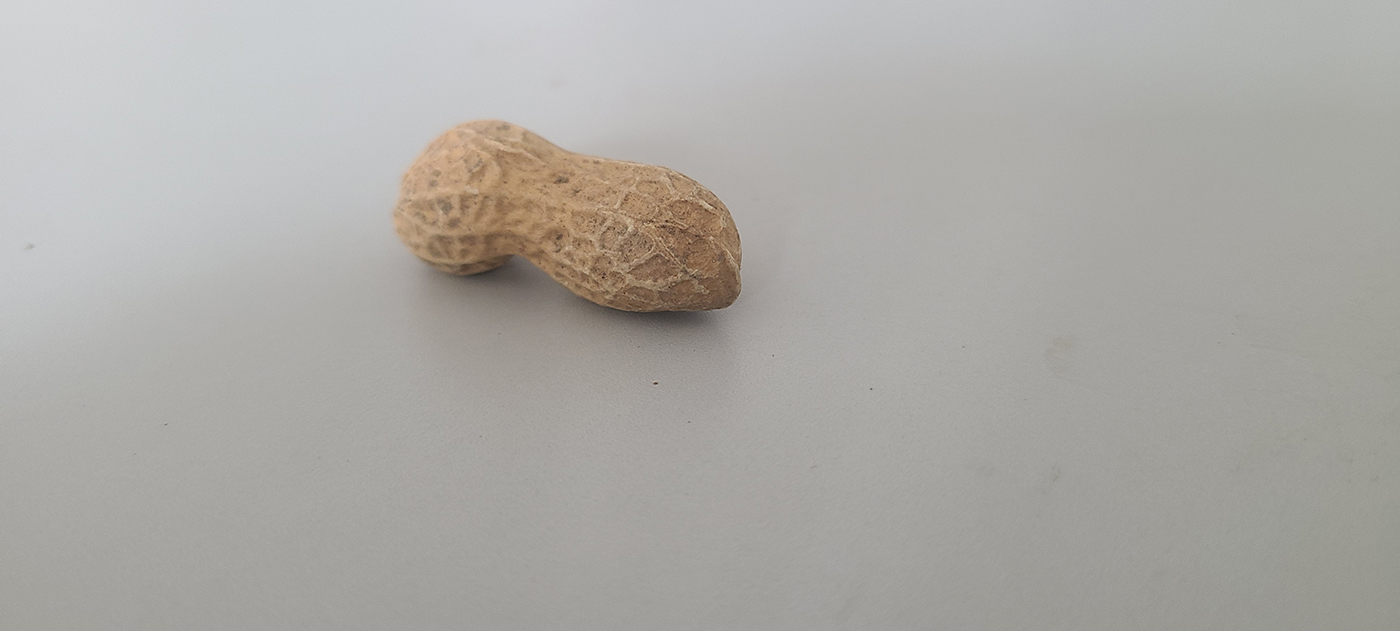h: (391, 117, 746, 317)
